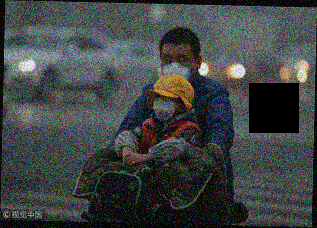with_mask: (161, 51, 196, 85), (150, 93, 178, 121)
